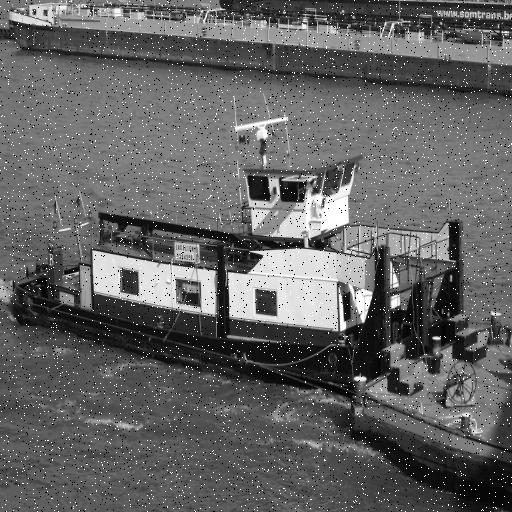tugboat: (6, 114, 471, 410)
